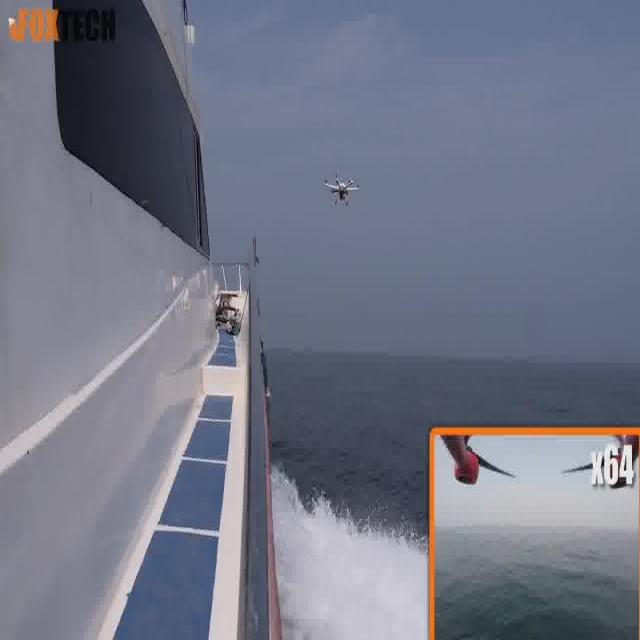Drone_FW: (321, 172, 363, 212)
